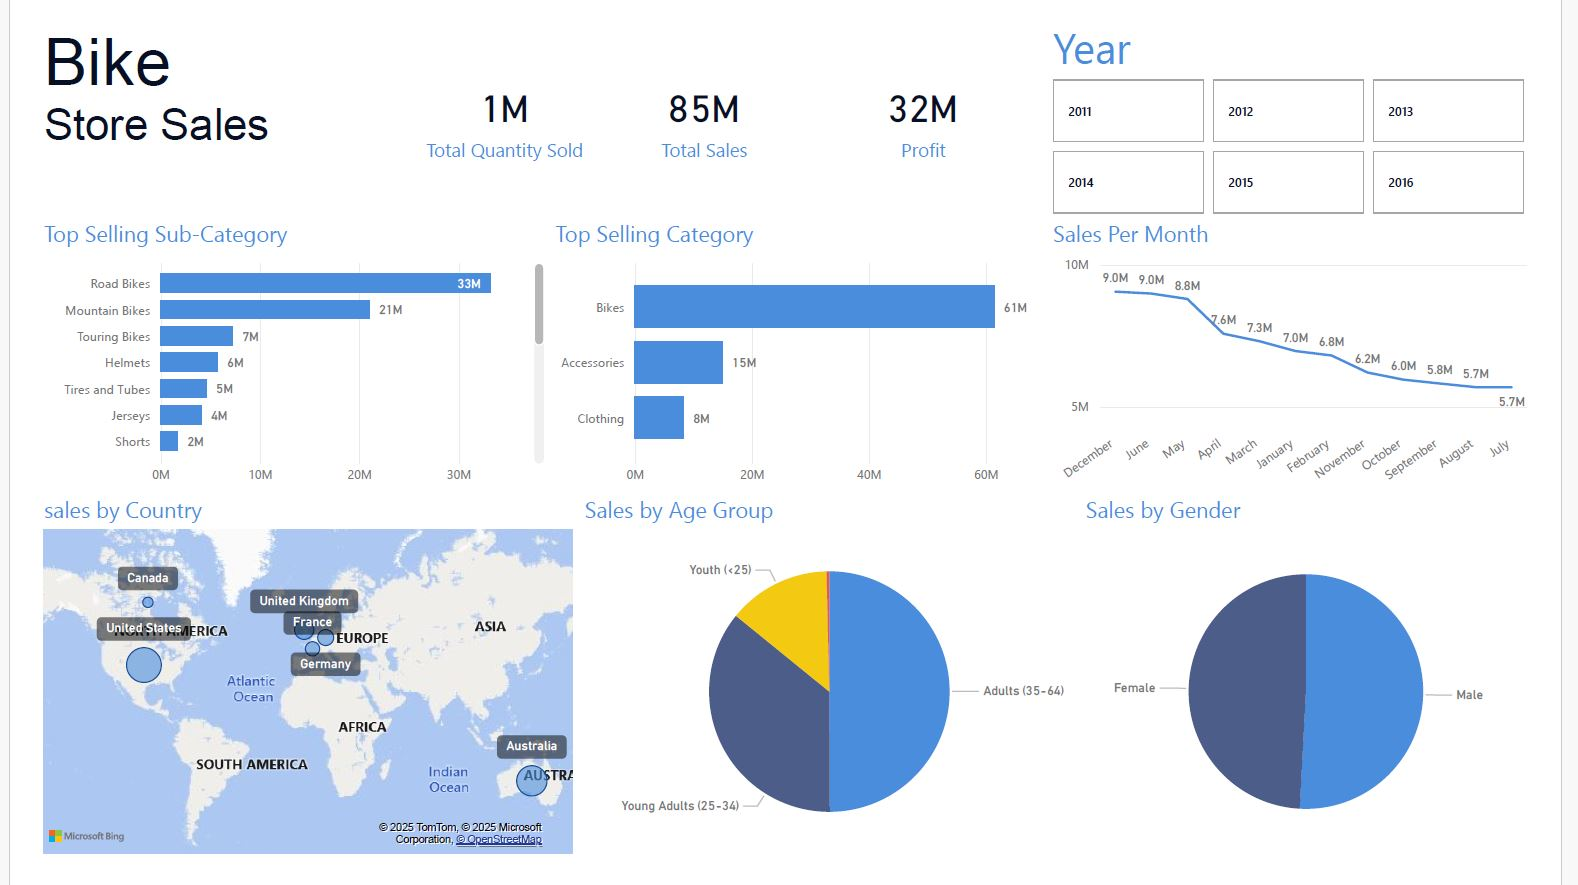

This screenshot's page, from the dashboard's own definition file:
{"tool":"powerbi","page":{"name":"Page 1","canvas":[1280,720],"ordinal":0},"visuals":[{"type":"card","fields":{"Values":["Sum(sales_data.Total_Revenue)"]},"box":[476.2,0,189,172],"z":0},{"type":"card","fields":{"Values":["Sum(sales_data.Profit)"]},"box":[652,0,211.7,172],"z":1},{"type":"card","fields":{"Values":["Sum(sales_data.Order_Quantity)"]},"box":[302.4,0,194.6,172],"z":2},{"type":"map","fields":{"Category":["sales_data.Country"],"Size":["Sum(sales_data.Total_Revenue)"]},"box":[0,408.2,463,311.8],"z":3},{"type":"barChart","title":"Top Selling Category","fields":{"Category":["sales_data.Product_Category"],"Y":["Sum(sales_data.Total_Revenue)"]},"box":[438.4,172,425.2,236.2],"z":4},{"type":"barChart","title":"Top Selling Sub-Category","fields":{"Y":["Sum(sales_data.Total_Revenue)"],"Category":["sales_data.Sub_Category"]},"box":[0,172,438.4,236.2],"z":5},{"type":"pieChart","title":"Sales by Age Group","fields":{"Category":["sales_data.Age_Group"],"Y":["Sum(sales_data.Total_Revenue)"]},"box":[463,408.2,429,311.8],"z":6},{"type":"advancedSlicerVisual","fields":{"Values":["sales_data.Year"]},"box":[863.6,0,415.8,172],"z":7},{"type":"pieChart","title":"Sales by Gender","fields":{"Category":["sales_data.Customer_Gender"],"Y":["Sum(sales_data.Total_Revenue)"]},"box":[892,408.2,387.4,311.8],"z":9},{"type":"lineChart","title":"Sales Per Month","fields":{"Category":["sales_data.Month"],"Y":["Sum(sales_data.Total_Revenue)"]},"box":[863.6,172,415.8,236.2],"z":10},{"type":"textbox","box":[0,0,302.4,172],"z":11}]}

Visuals, with their boxes in screenshot pixels (x1, y1, x2, y2), scaled from the page's 1280x720 canvas onto the 1578x885 screenshot:
card - Sum(sales_data.Total_Revenue): [587,0,820,211]
card - Sum(sales_data.Profit): [804,0,1065,211]
card - Sum(sales_data.Order_Quantity): [373,0,613,211]
map - sales_data.Country x Sum(sales_data.Total_Revenue): [0,502,571,884]
"Top Selling Category" barChart: [540,211,1065,502]
"Top Selling Sub-Category" barChart: [0,211,540,502]
"Sales by Age Group" pieChart: [571,502,1100,884]
advancedSlicerVisual - sales_data.Year: [1065,0,1577,211]
"Sales by Gender" pieChart: [1100,502,1577,884]
"Sales Per Month" lineChart: [1065,211,1577,502]
textbox: [0,0,373,211]
